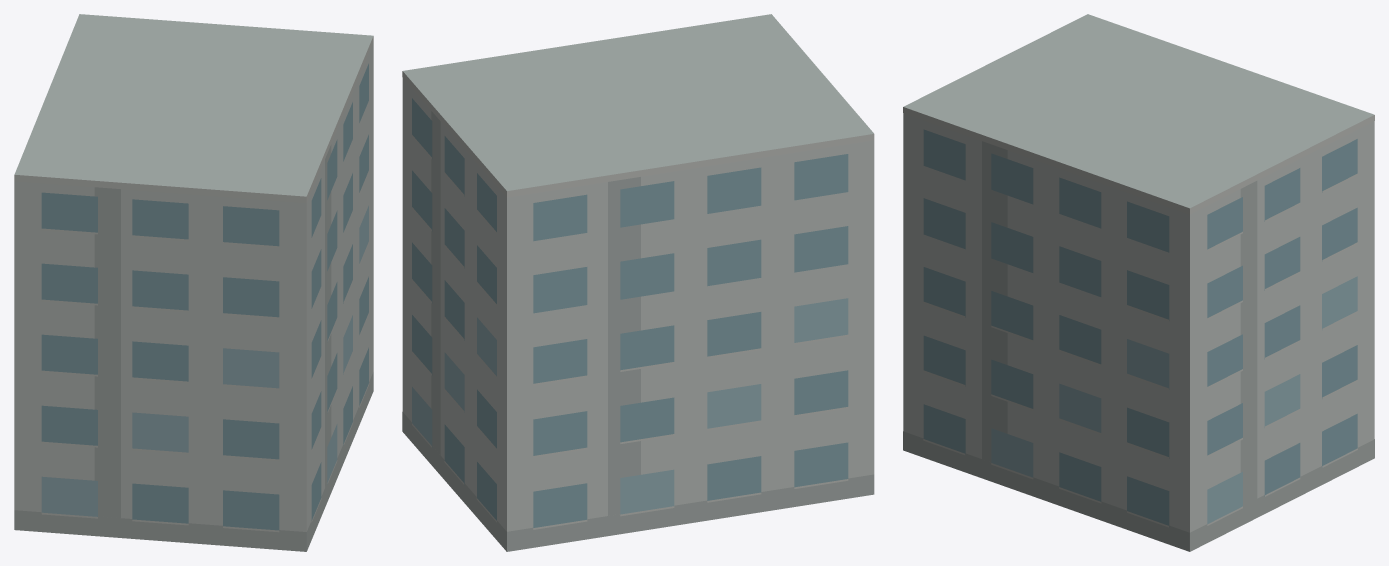
The model's file is survey-upis-33019188.glb.
3 views of the same model, side by side, from view 1: azimuth 30°, elevation 25°; view 2: azimuth 150°, elevation 25°; view 3: azimuth 270°, elevation 25° (orthographic). The views are drawn at different scales.
Parts seen in each view (by area): view 1: survey-upis-33019188.tmp; view 2: survey-upis-33019188.tmp; view 3: survey-upis-33019188.tmp.
Part boxes in pixels (bbox=[...]): survey-upis-33019188.tmp: bbox=[14, 14, 373, 551]; survey-upis-33019188.tmp: bbox=[402, 14, 874, 551]; survey-upis-33019188.tmp: bbox=[903, 14, 1374, 551].
Bounding box in the file's own units: 16.27 × 13.4 × 16.68.
